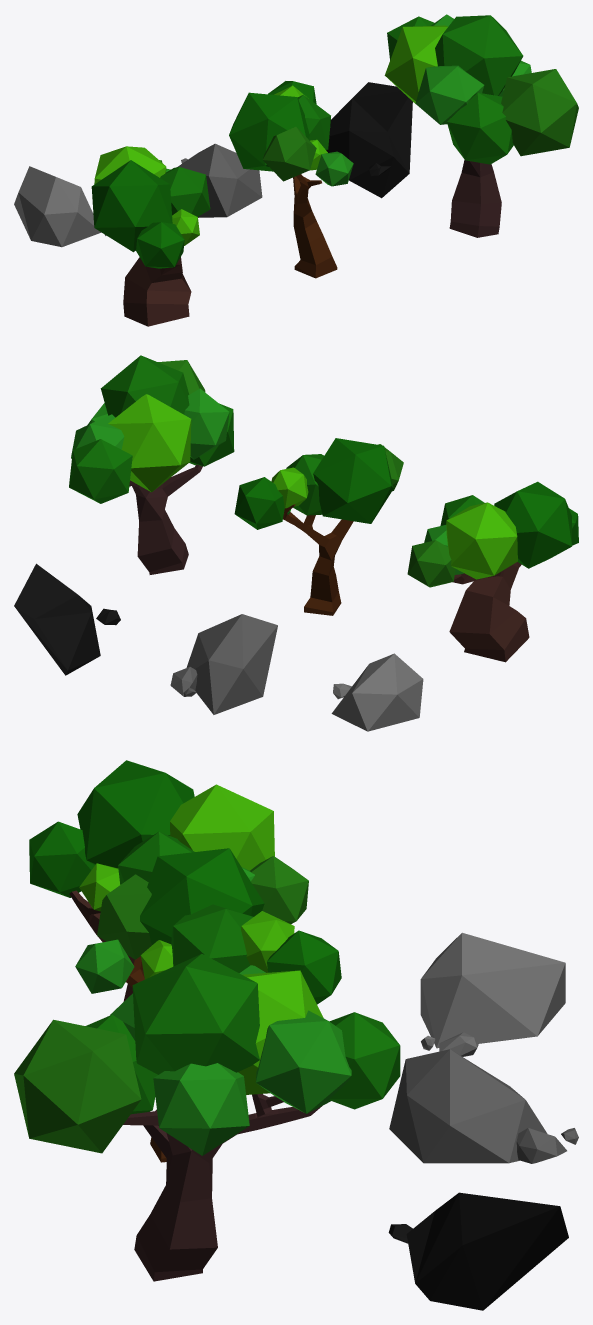
Rendered from Tree low poly_rocks.glb.
3 views of the same model, one above another, from view 1: azimuth 30°, elevation 25°; view 2: azimuth 150°, elevation 25°; view 3: azimuth 270°, elevation 25° (orthographic). The views are drawn at different scales.
Parts seen in each view (by area): view 1: Icosphere.025, Icosphere.014, Icosphere.019, Icosphere.024, Icosphere.013, Icosphere.004, Cube.002, Icosphere.023, Icosphere.015, Cube.001, Icosphere.010, Icosphere.012 (+10 smaller); view 2: Icosphere.023, Icosphere.025, Icosphere.004, Cube.002, Icosphere.010, Icosphere.024, Icosphere.017, Icosphere.019, Cube.001, Icosphere.013, Icosphere.008, Cube (+9 smaller); view 3: Icosphere.023, Icosphere.025, Icosphere.024, Icosphere.014, Icosphere.013, Cube.001, Icosphere.019, Icosphere.004, Icosphere.009, Icosphere.011, Icosphere.017, Icosphere.008 (+13 smaller).
Boxes of the visible parts, bbox=[...] form: Icosphere.025: bbox=[326, 82, 412, 198]; Icosphere.014: bbox=[501, 69, 578, 156]; Icosphere.019: bbox=[91, 160, 172, 252]; Icosphere.024: bbox=[14, 166, 106, 247]; Icosphere.013: bbox=[435, 15, 523, 95]; Icosphere.004: bbox=[229, 92, 309, 171]; Cube.002: bbox=[123, 257, 191, 326]; Icosphere.023: bbox=[177, 143, 262, 217]; Icosphere.015: bbox=[447, 92, 513, 164]; Cube.001: bbox=[449, 160, 501, 237]; Icosphere.010: bbox=[384, 25, 447, 103]; Icosphere.012: bbox=[415, 65, 484, 124]; Icosphere.023: bbox=[170, 614, 277, 714]; Icosphere.025: bbox=[14, 563, 120, 675]; Icosphere.004: bbox=[313, 438, 393, 523]; Cube.002: bbox=[449, 562, 529, 662]; Icosphere.010: bbox=[108, 394, 191, 492]; Icosphere.024: bbox=[331, 653, 423, 731]; Icosphere.017: bbox=[446, 502, 517, 579]; Icosphere.019: bbox=[494, 481, 571, 568]; Cube.001: bbox=[129, 464, 202, 574]; Icosphere.013: bbox=[100, 355, 189, 417]; Icosphere.008: bbox=[69, 439, 132, 503]; Cube: bbox=[283, 504, 353, 615]; Icosphere.023: bbox=[389, 1049, 578, 1163]; Icosphere.025: bbox=[388, 1192, 568, 1310]; Icosphere.024: bbox=[420, 932, 565, 1056]; Icosphere.014: bbox=[14, 1019, 141, 1153]; Icosphere.013: bbox=[132, 954, 259, 1074]; Cube.001: bbox=[123, 1094, 321, 1281]; Icosphere.019: bbox=[77, 760, 194, 868]; Icosphere.004: bbox=[140, 848, 264, 944]; Icosphere.009: bbox=[255, 1010, 351, 1113]; Icosphere.011: bbox=[153, 1063, 249, 1155]; Icosphere.017: bbox=[170, 784, 274, 870]; Icosphere.008: bbox=[329, 1012, 400, 1109].
Bounding box in the file's own units: 28.28 × 13.96 × 19.76.
